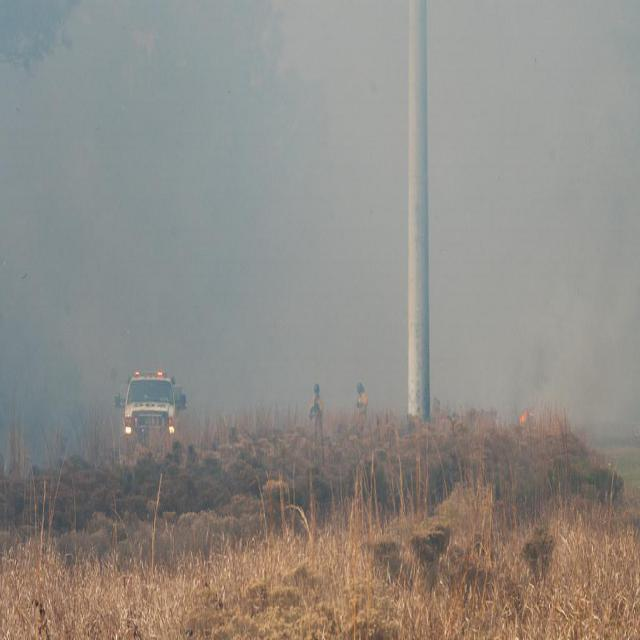Fire: (6, 6, 636, 478), (518, 404, 536, 429)
